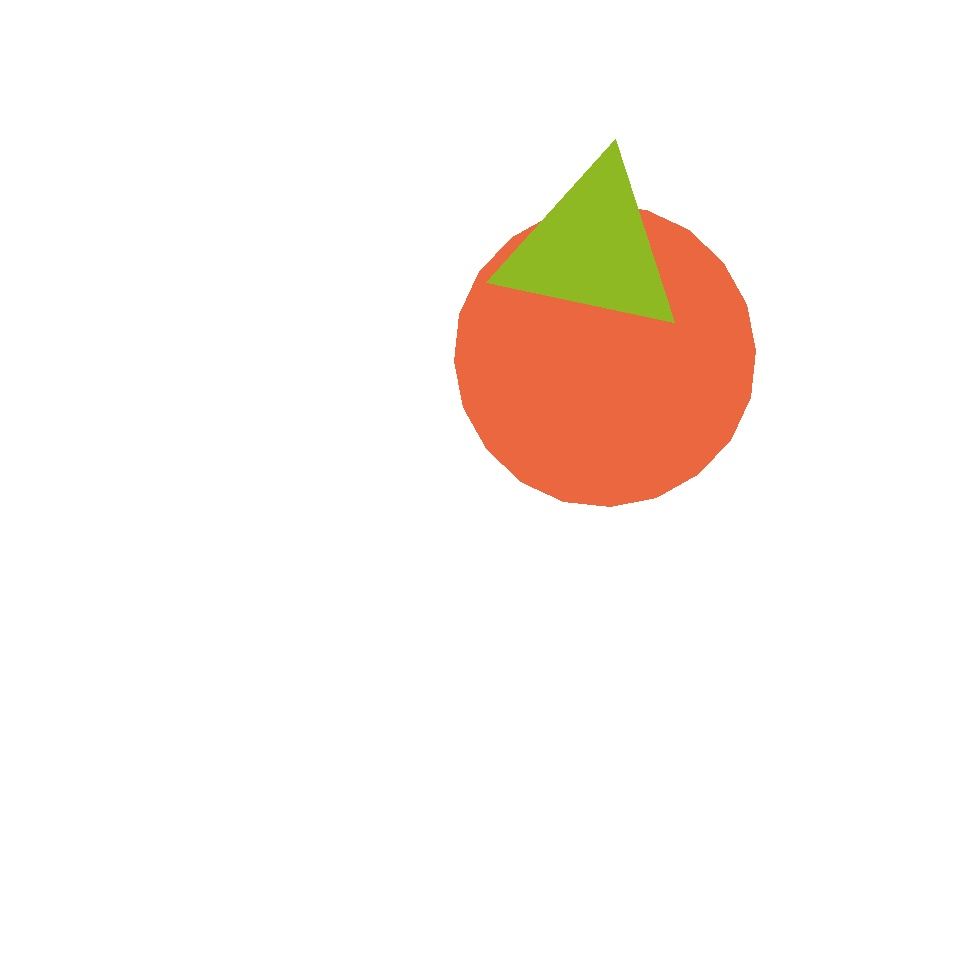circle: (498, 157, 686, 340), (652, 13, 744, 111)
square: (381, 466, 586, 672)
triangle: (244, 334, 624, 714), (564, 60, 940, 436), (455, 206, 756, 506), (198, 464, 482, 747), (232, 298, 346, 410)
